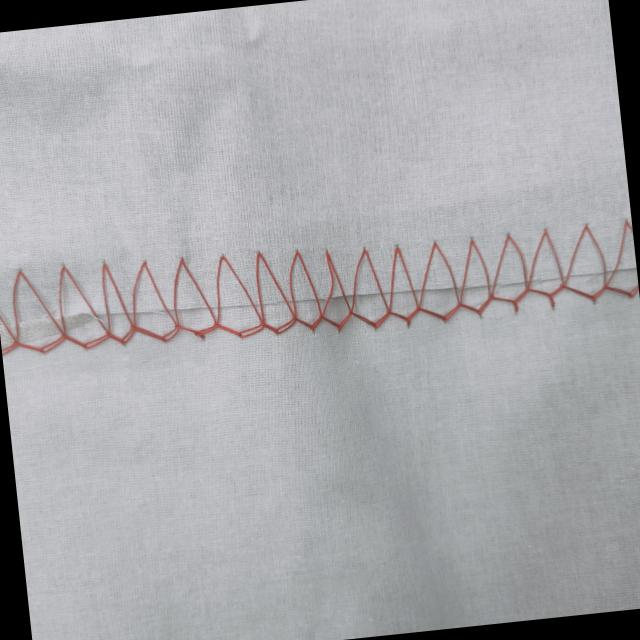gray stitch: (0, 201, 639, 367)
